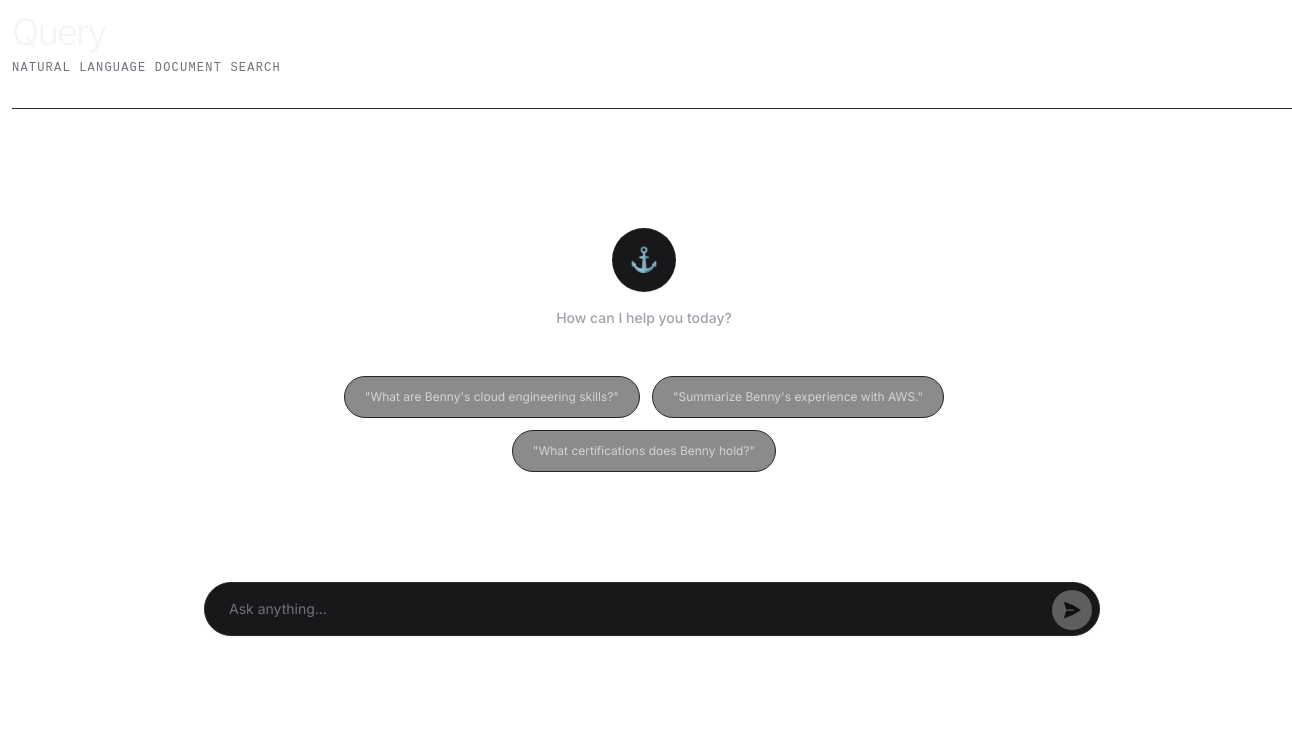
ChatPage UI - Gemini 429 Rate Limit Handling › renders user-friendly rate limit message and ensures raw JSON is not displayed when API returns 429
Type "Tell me about the documents" into the field with placeholder "Ask anything..." at (652, 609), box left=204, top=582, right=1100, bottom=636
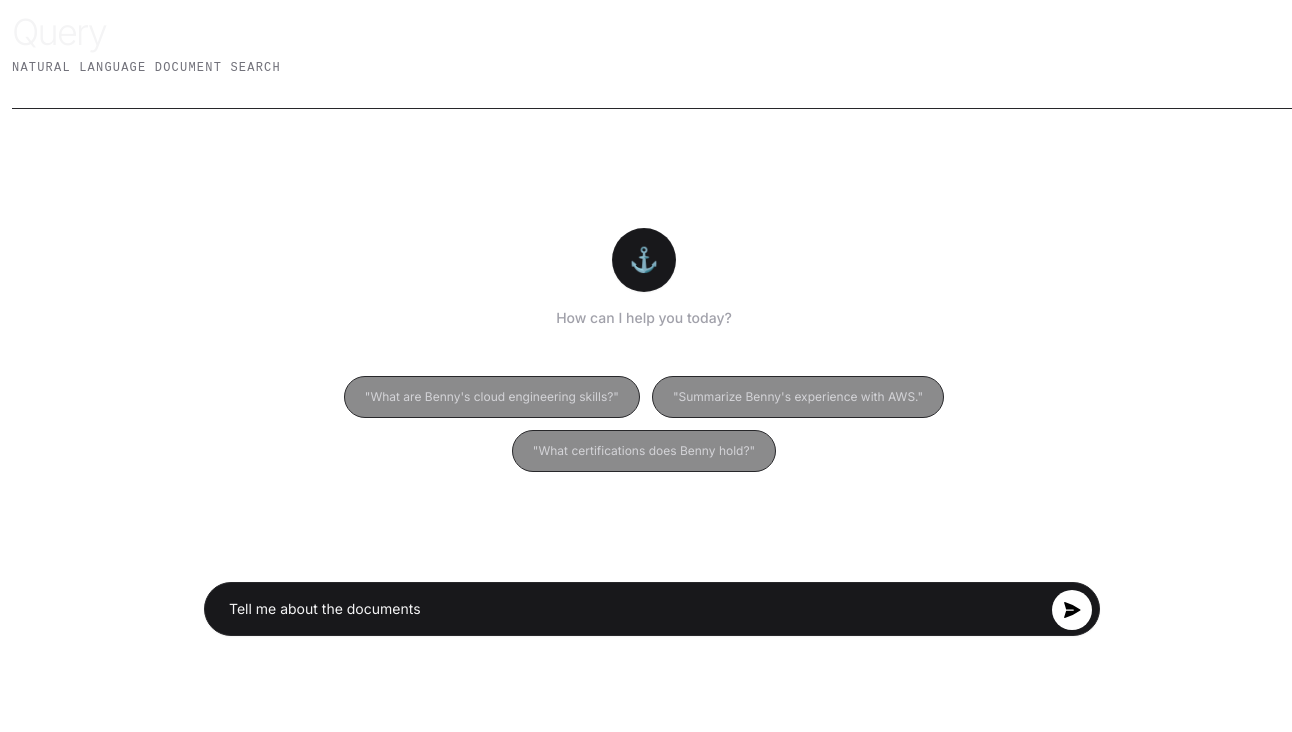
Click the 4th button at (1072, 610), box left=1052, top=590, right=1092, bottom=630
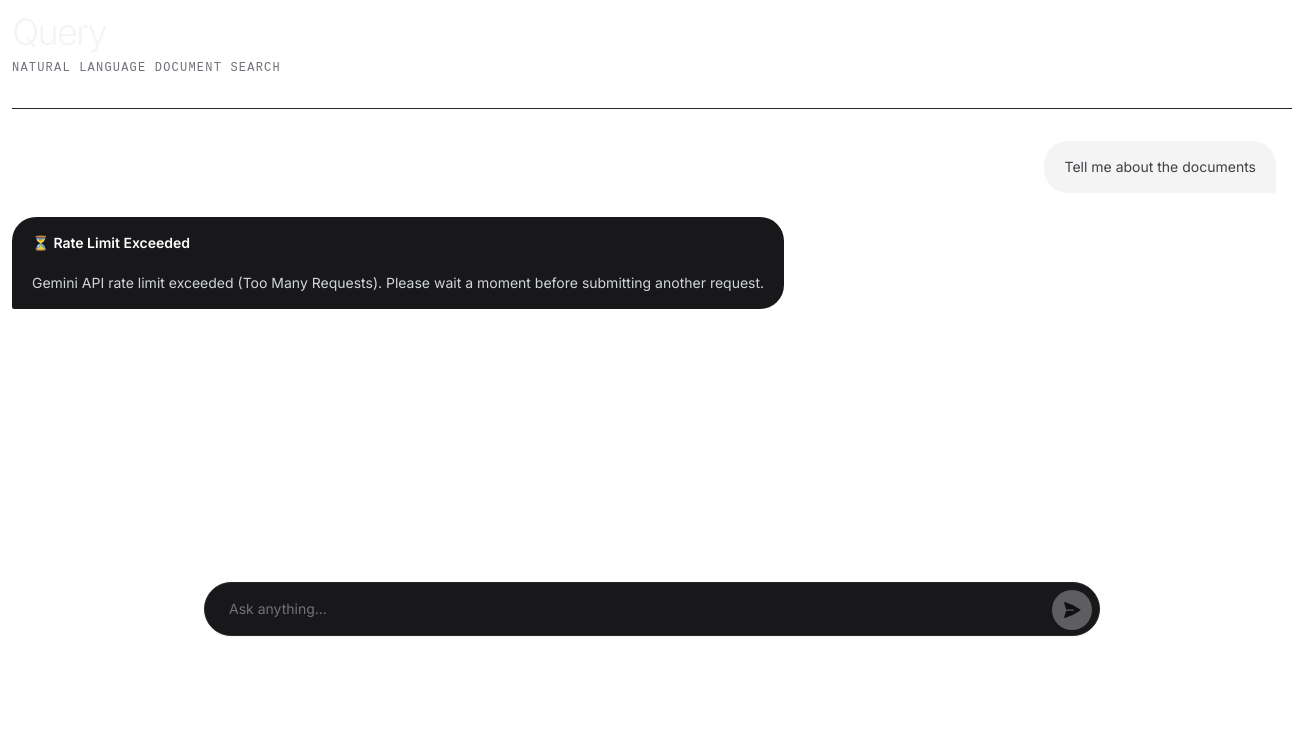
Now the text "Rate Limit Exceeded" is shown, box left=53, top=234, right=190, bottom=251
Now the text "Gemini API rate limit exceeded" is shown, box left=32, top=274, right=764, bottom=291
